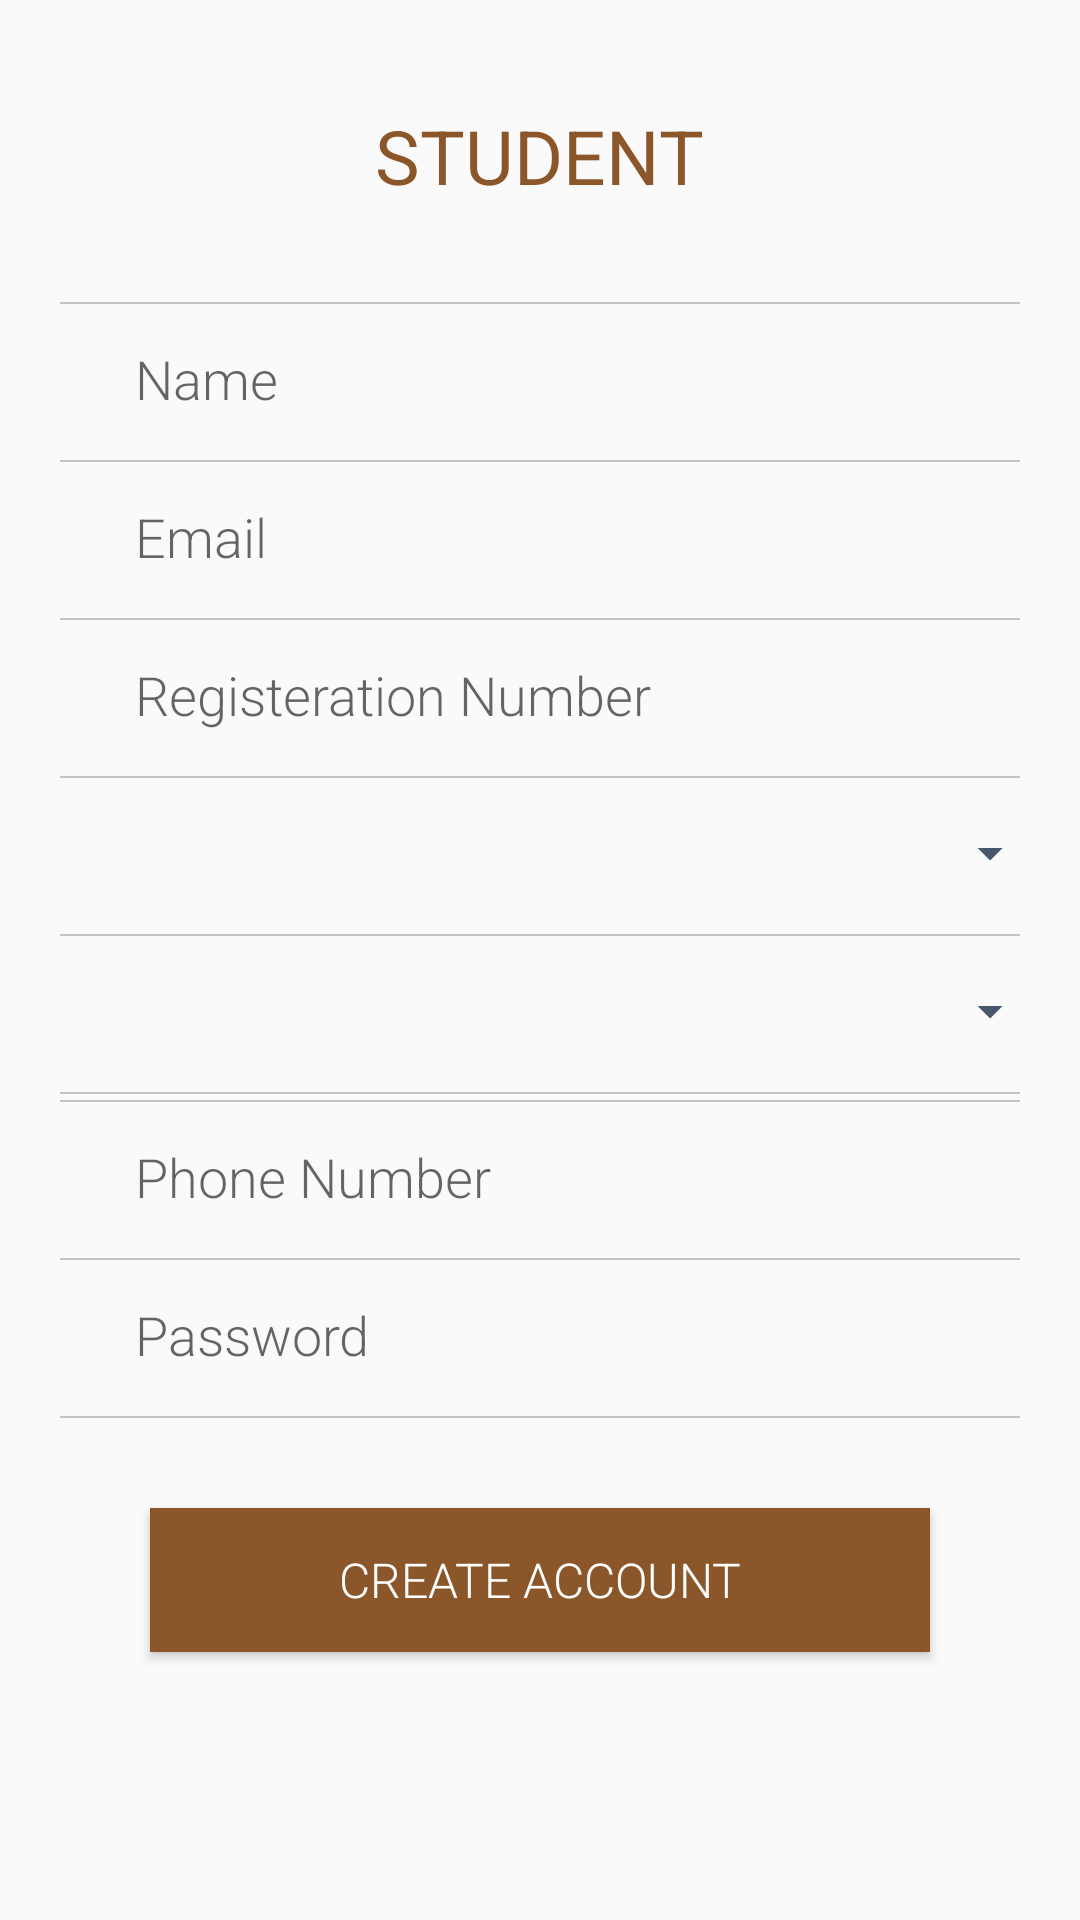

Locate icon controls on the screen. Image size 1080px×1920px, boxes as (x1, y1, x2, y2).
dropdown: (978, 848, 1003, 861), (978, 1006, 1003, 1019)
